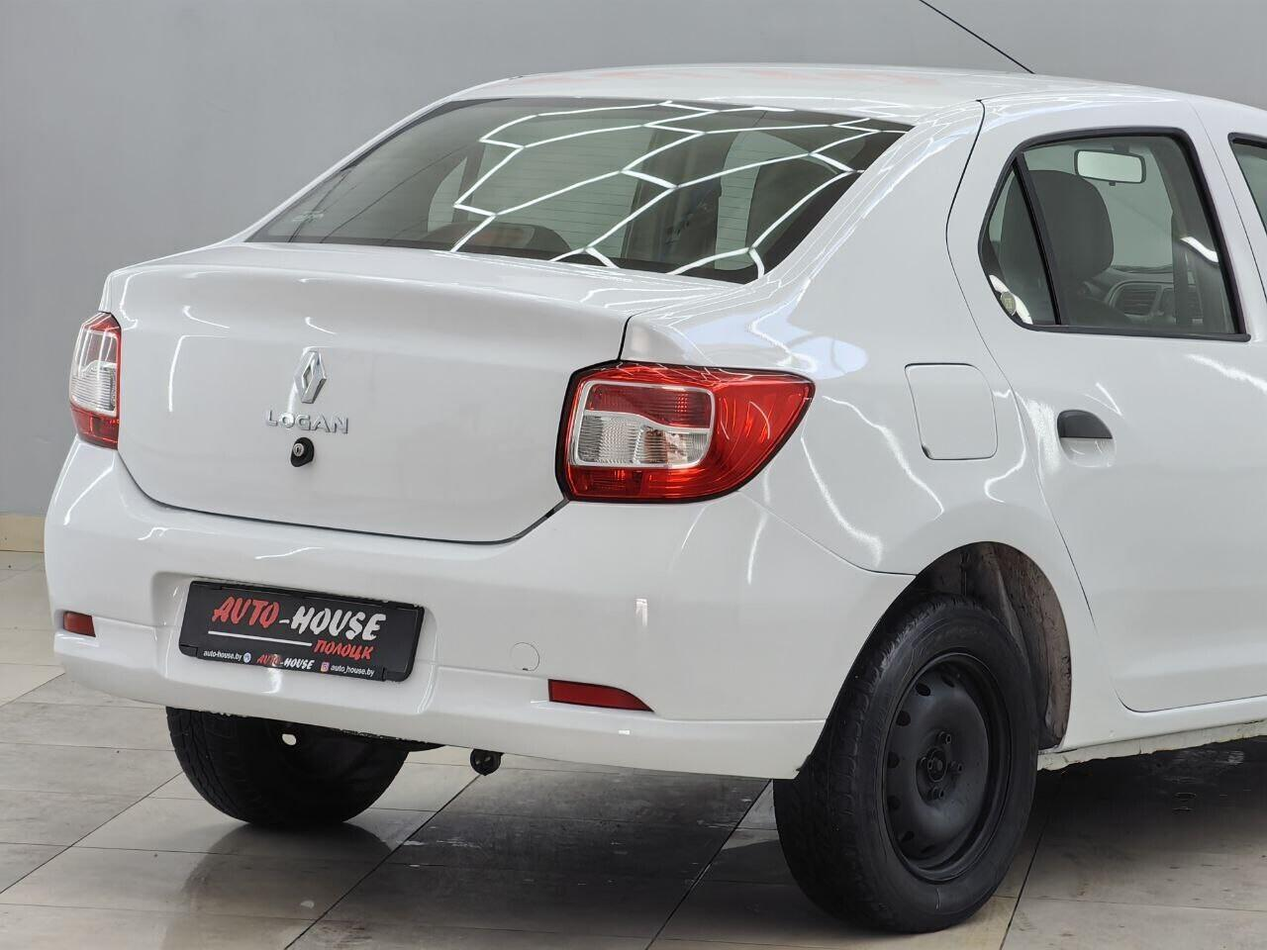Logan_2013-2018: (40, 48, 1267, 939)
